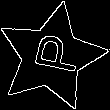P_W: (22, 34, 80, 80)
